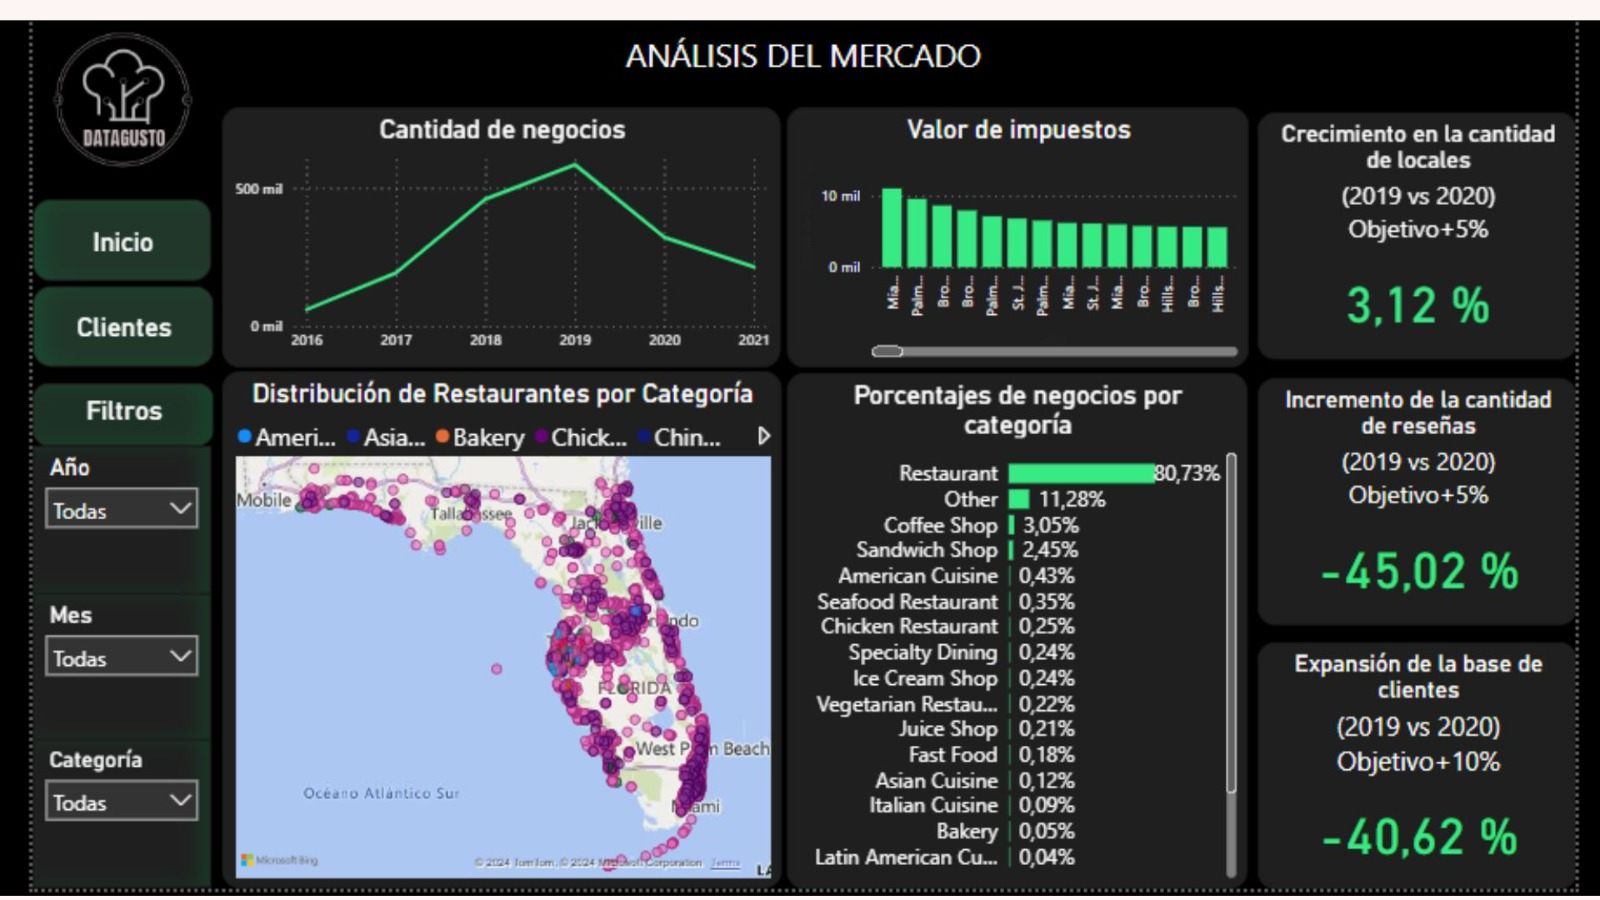

The page's visual inventory and layout, read from the dashboard file:
{"tool":"powerbi","page":{"name":"Mercado","canvas":[1280,720],"ordinal":1},"visuals":[{"type":"map","title":"Distribución de Restaurantes por Categoría","fields":{"X":["BusinessPowerBI2.longitud"],"Series":["ReviewPowerBI.business_category"],"Y":["BusinessPowerBI2.latitud"]},"box":[157,290.9,463.7,429.1],"z":0},{"type":"clusteredBarChart","title":"Porcentajes de negocios por categoría","fields":{"Category":["ReviewPowerBI.business_category"],"Y":["Divide(CountNonNull(ReviewPowerBI.business_category), ScopedEval(CountNonNull(ReviewPowerBI.business_category), []))"]},"box":[625,292.3,381.6,427.7],"z":1000},{"type":"slicer","fields":{"Values":["Calendario.Año"]},"box":[0,353.3,148.3,123.3],"z":2000},{"type":"slicer","fields":{"Values":["Calendario.Nombre del mes"]},"box":[0,475,148.3,121.7],"z":3000},{"type":"slicer","fields":{"Values":["BusinessPowerBI2.business_category"]},"box":[0,596.7,148.3,123.3],"z":4000},{"type":"clusteredColumnChart","title":"Valor de impuestos","fields":{"Category":["datagusto_censo.GEO"],"Y":["Sum(datagusto_censo.Prop_Tax_AVG)"]},"box":[624.3,71.4,382.9,215.7],"z":5000},{"type":"lineChart","title":"Cantidad de negocios","fields":{"Y":["CountNonNull(ReviewPowerBI.business_id)"],"Category":["Calendario.Date.Variación.Jerarquía de fechas.Año"]},"box":[157.1,71.4,462.9,215.7],"z":6000},{"type":"actionButton","title":"Clientes","box":[0,220.7,150,66.7],"z":7000},{"type":"actionButton","title":"Clientes","box":[0,148,148.5,68.2],"z":8000},{"type":"textbox","box":[0,301.7,150,51.7],"z":9000},{"type":"textbox","box":[205.9,4.3,865.4,54.7],"z":10000},{"type":"card","title":"Crecimiento de la cantidad de locales","fields":{"Values":["2-Medidas.CantidadRestaurantesPromedio"]},"box":[1015,76.7,265,205],"z":11000},{"type":"card","title":"Incremento de la cantidad de reseñas","fields":{"Values":["2-Medidas.2PromedioCantidadReseñas"]},"box":[1015,296.7,265,205],"z":12000},{"type":"card","title":"Expansión de la base de clientes","fields":{"Values":["2-Medidas.4PromedioCantidadUsuarios"]},"box":[1015,515,265,205],"z":13000},{"type":"image","box":[0,0,148.3,133.3],"z":14000}]}

Visuals, with their boxes in screenshot pixels (x1, y1, x2, y2), scaled from the page's 1280x720 canvas onto the 1600x900 screenshot:
"Distribución de Restaurantes por Categoría" map: (196, 364, 776, 899)
"Porcentajes de negocios por categoría" clusteredBarChart: (781, 365, 1258, 899)
slicer - Calendario.Año: (0, 442, 185, 596)
slicer - Calendario.Nombre del mes: (0, 594, 185, 746)
slicer - BusinessPowerBI2.business_category: (0, 746, 185, 899)
"Valor de impuestos" clusteredColumnChart: (780, 89, 1259, 359)
"Cantidad de negocios" lineChart: (196, 89, 775, 359)
"Clientes" actionButton: (0, 276, 188, 359)
"Clientes" actionButton: (0, 185, 186, 270)
textbox: (0, 377, 188, 442)
textbox: (257, 5, 1339, 74)
"Crecimiento de la cantidad de locales" card: (1269, 96, 1599, 352)
"Incremento de la cantidad de reseñas" card: (1269, 371, 1599, 627)
"Expansión de la base de clientes" card: (1269, 644, 1599, 899)
image: (0, 0, 185, 167)
